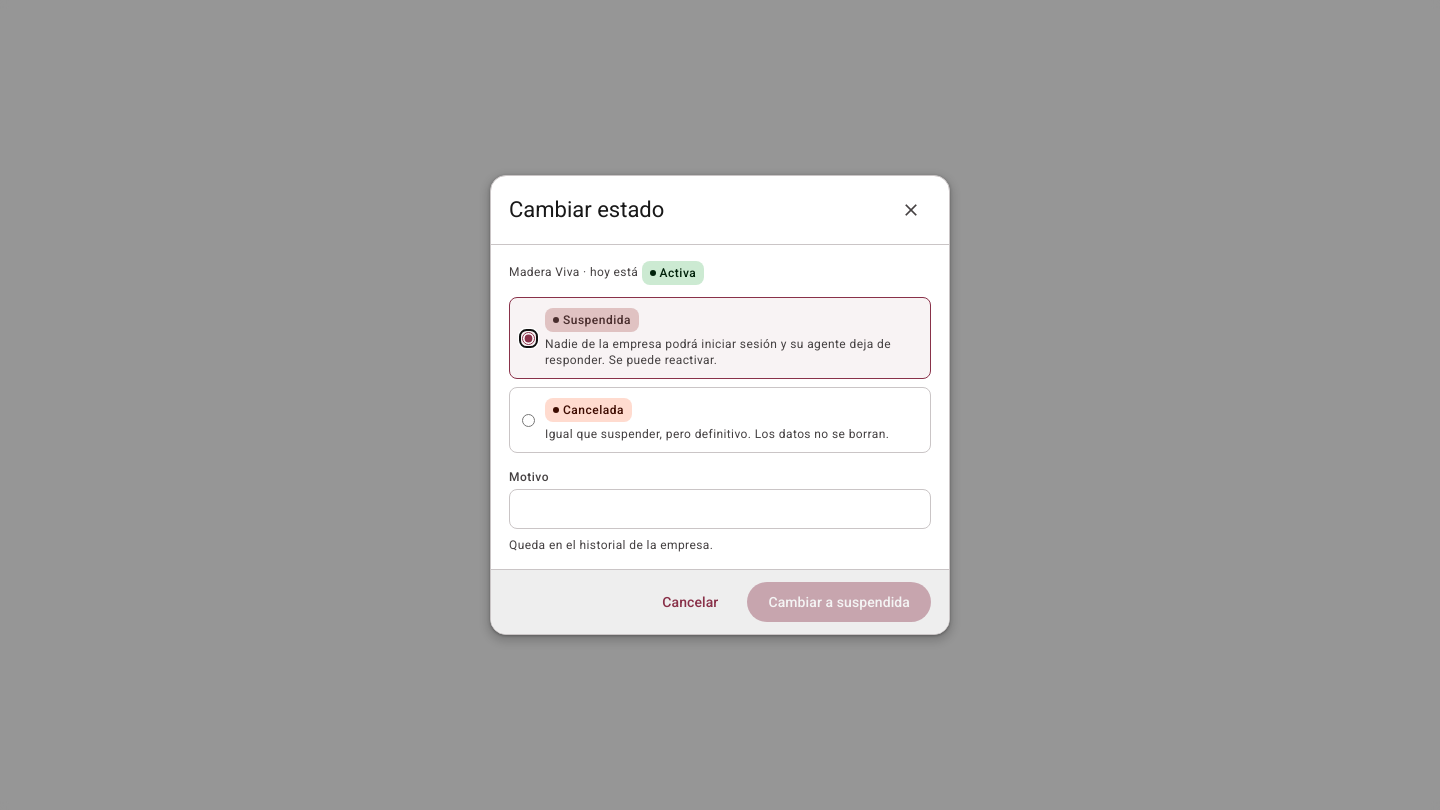
it: StatusDialog › cancelar exige escribir el código de la empresa
Click the radio button labelled "Cancelada" at (528,420), box [522,414,535,426]
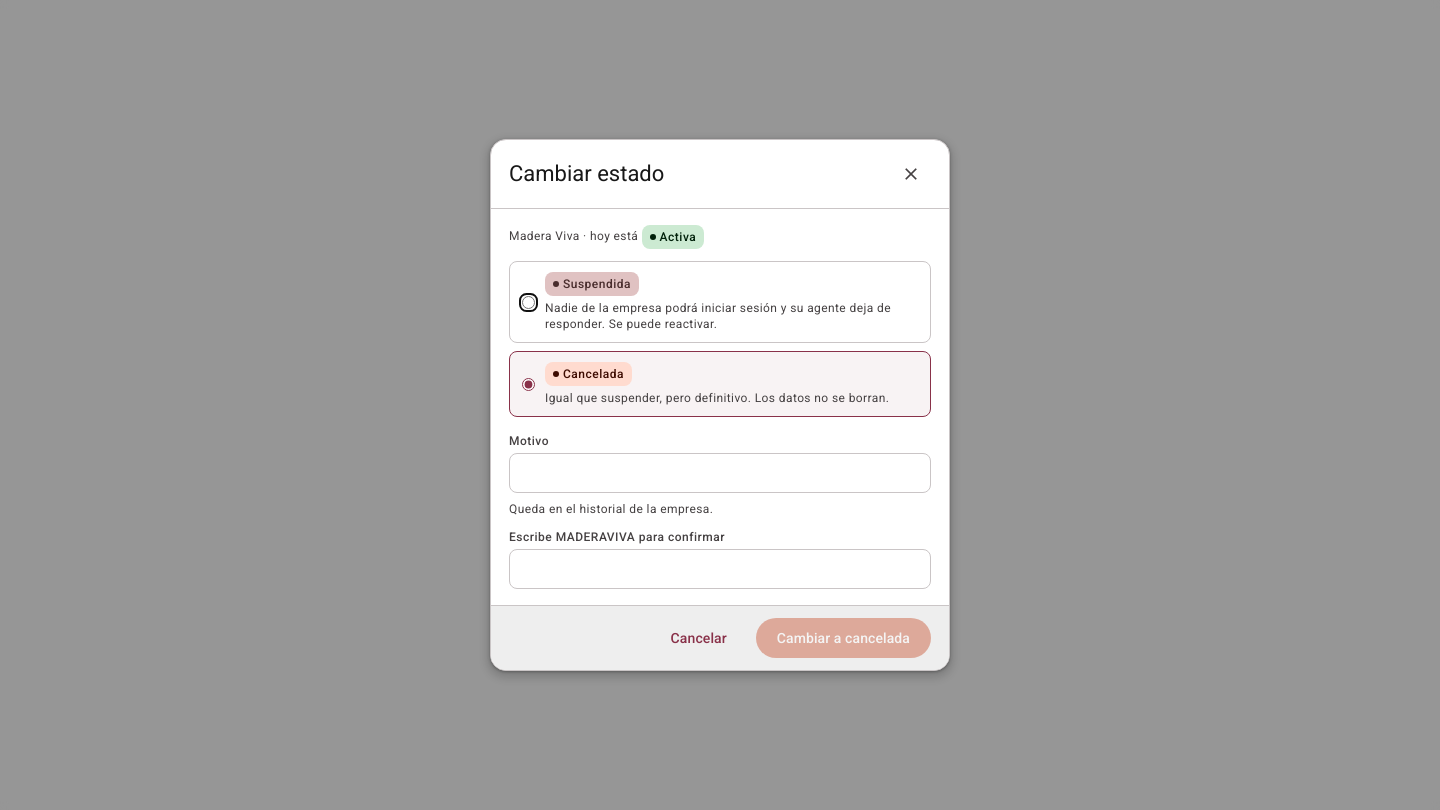
Type "Cierre" into the field labelled "Motivo" at (720,473), box [509,453,931,493]
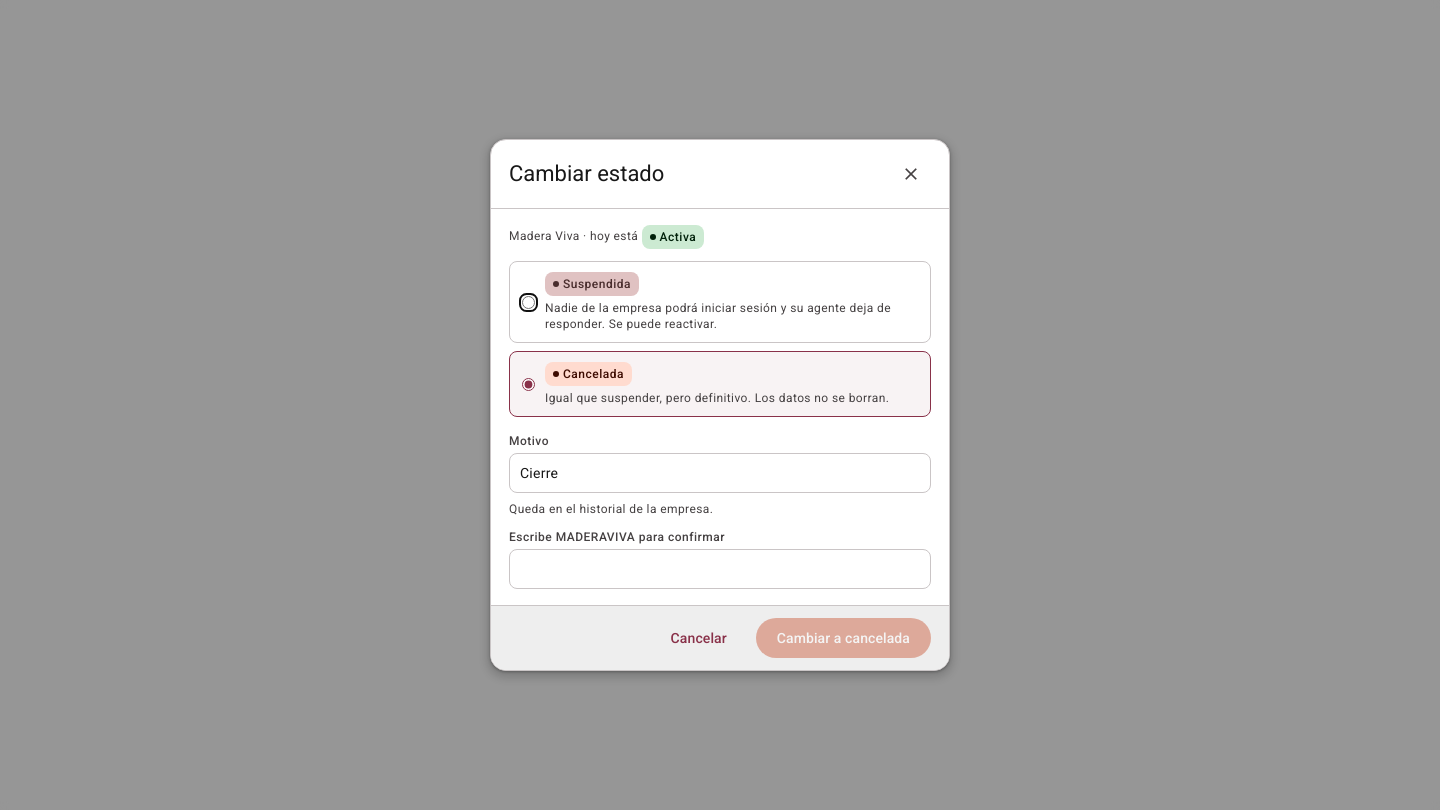
Expected: the button "Cambiar a cancelada" is disabled, [756,618,931,658]
Type "maderaviva" into the field labelled "Escribe MADERAVIVA para confirmar" at (720,569), box [509,549,931,589]
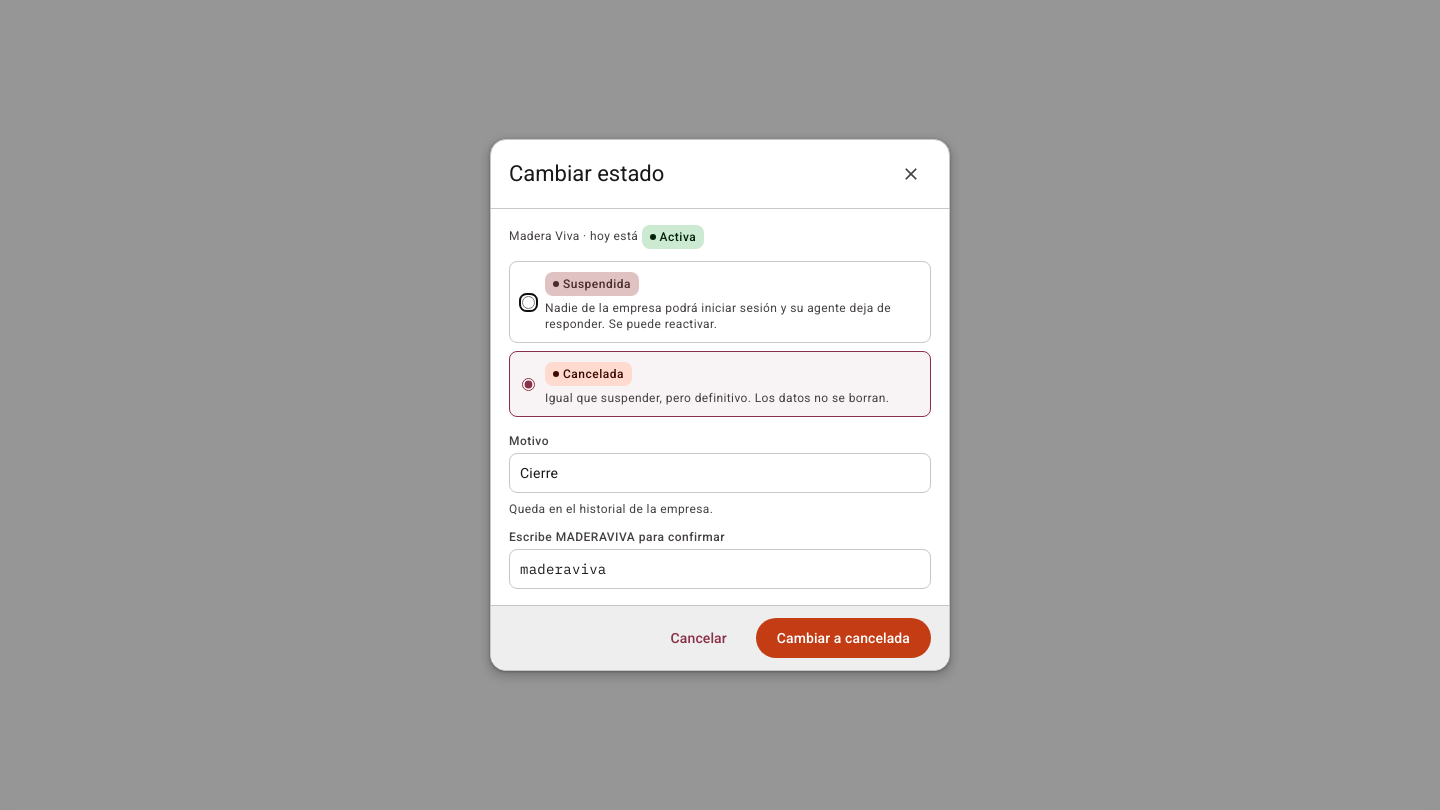
Expected: the button "Cambiar a cancelada" is enabled, [756,618,931,658]
